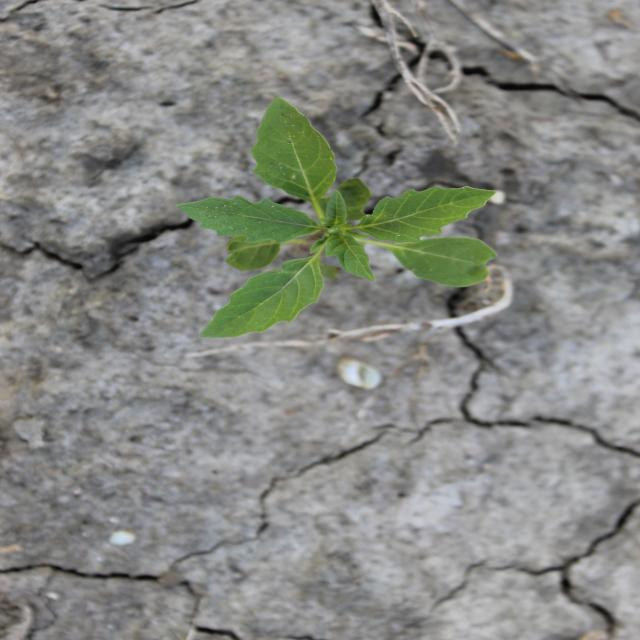CutleafGroundcherry: (172, 95, 500, 340)
